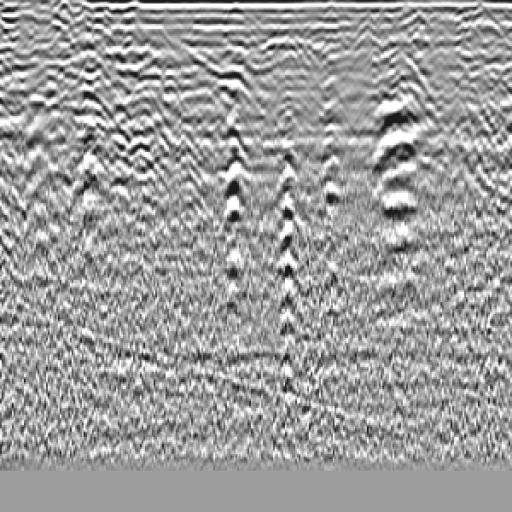metalic: (362, 77, 438, 241)
